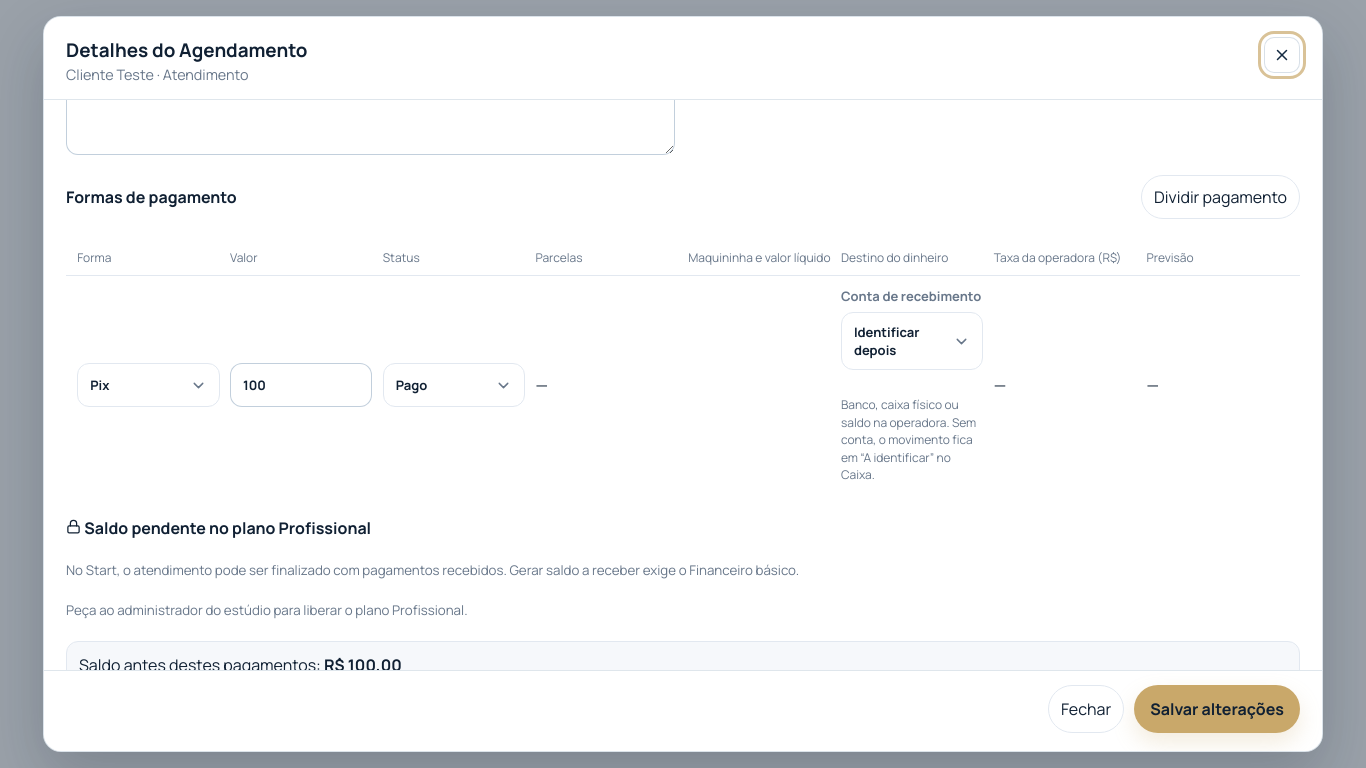
Test: ações financeiras da agenda por plano › mantém o fechamento pago no Start e sinaliza o saldo pendente bloqueado
(page scrolled)
Expected: the element that starts with "Saldo pendente no plano Profissional" shows "No Start, o atendimento pode ser finalizado com pagamentos recebidos.", [66,561,799,579]
Click the dropdown named "Status": (454, 385) [383,363,525,407]
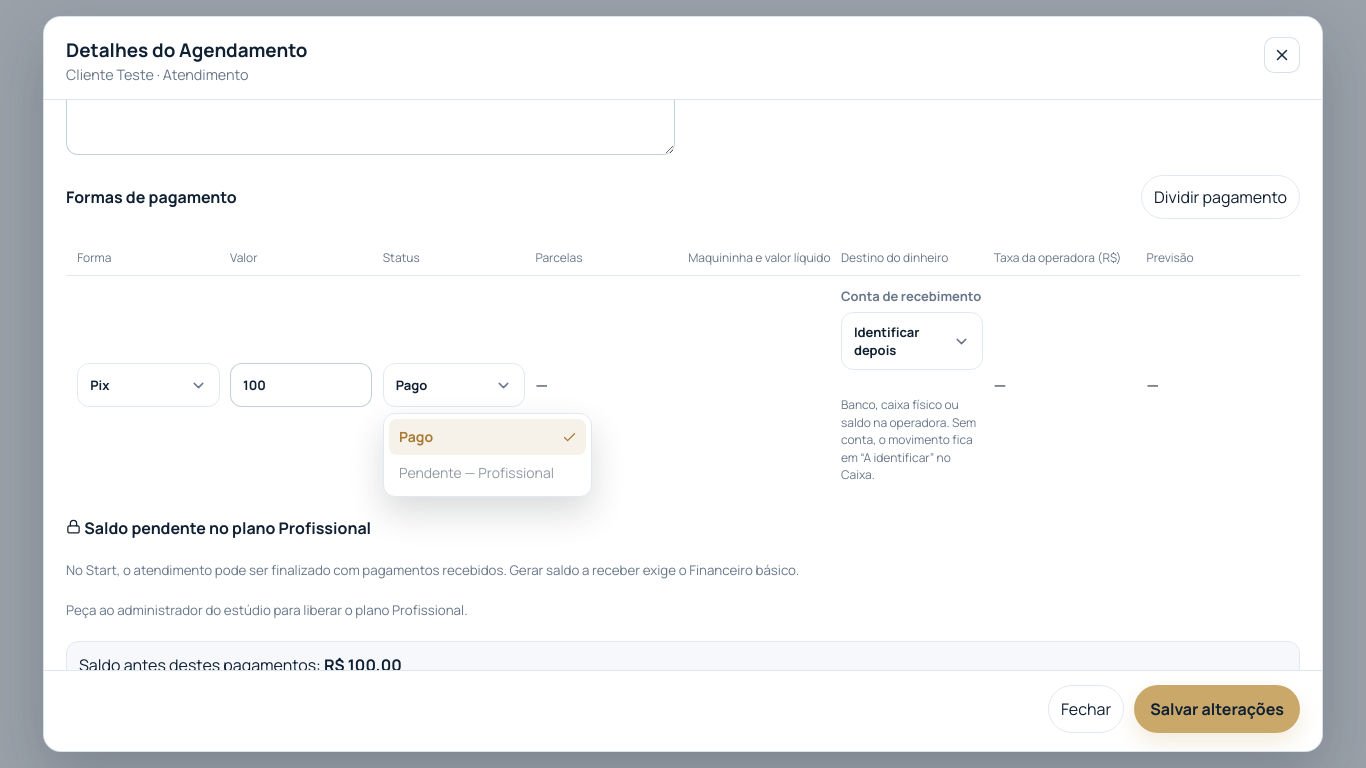
Press Escape
(page scrolled)
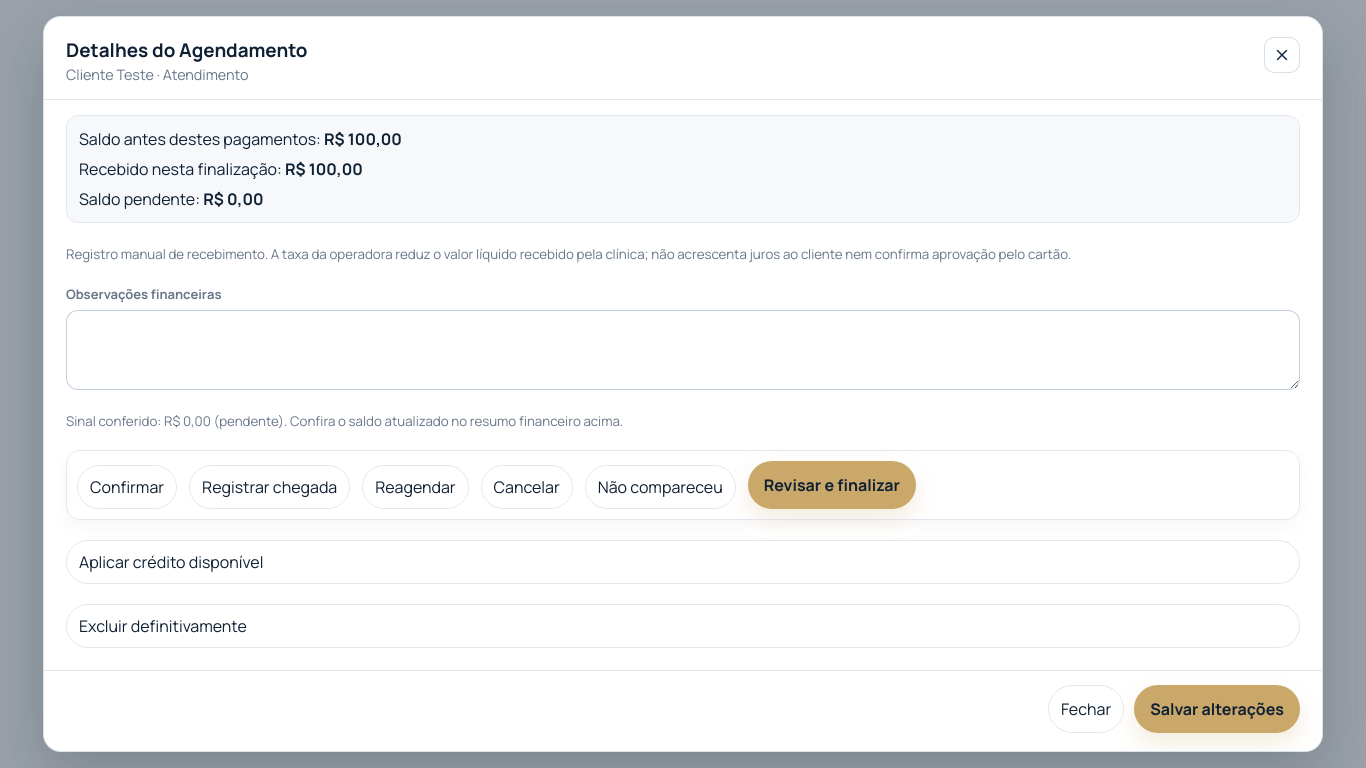
Result: the button "Revisar e finalizar" is enabled at [748,461,916,509]
